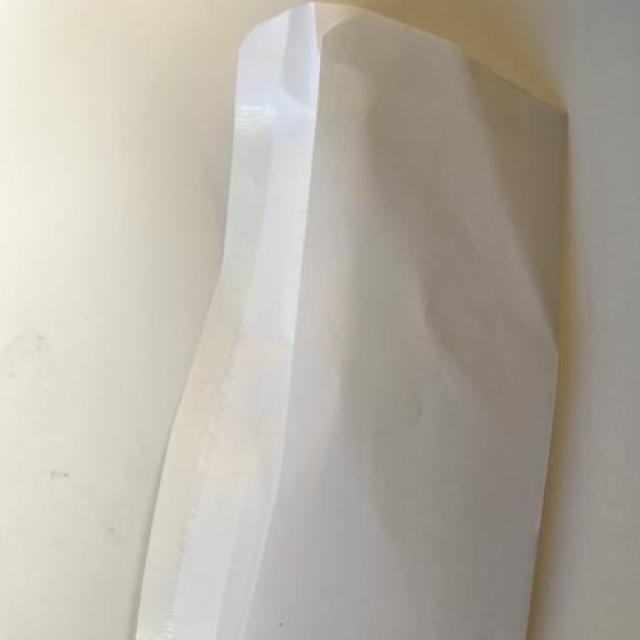kertas: (128, 0, 573, 640)
